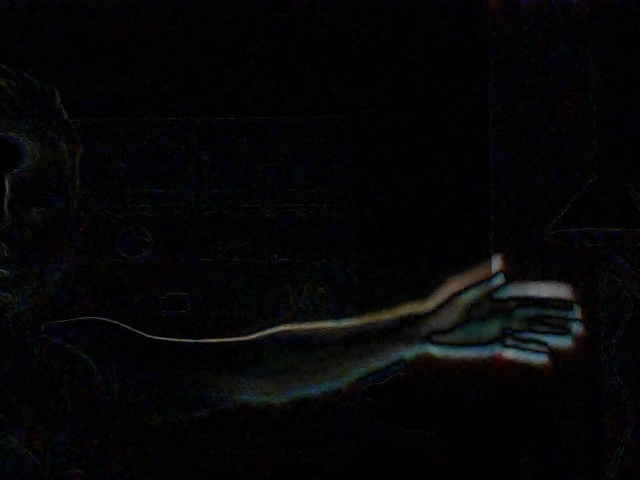hand_pa: (407, 250, 594, 369)
